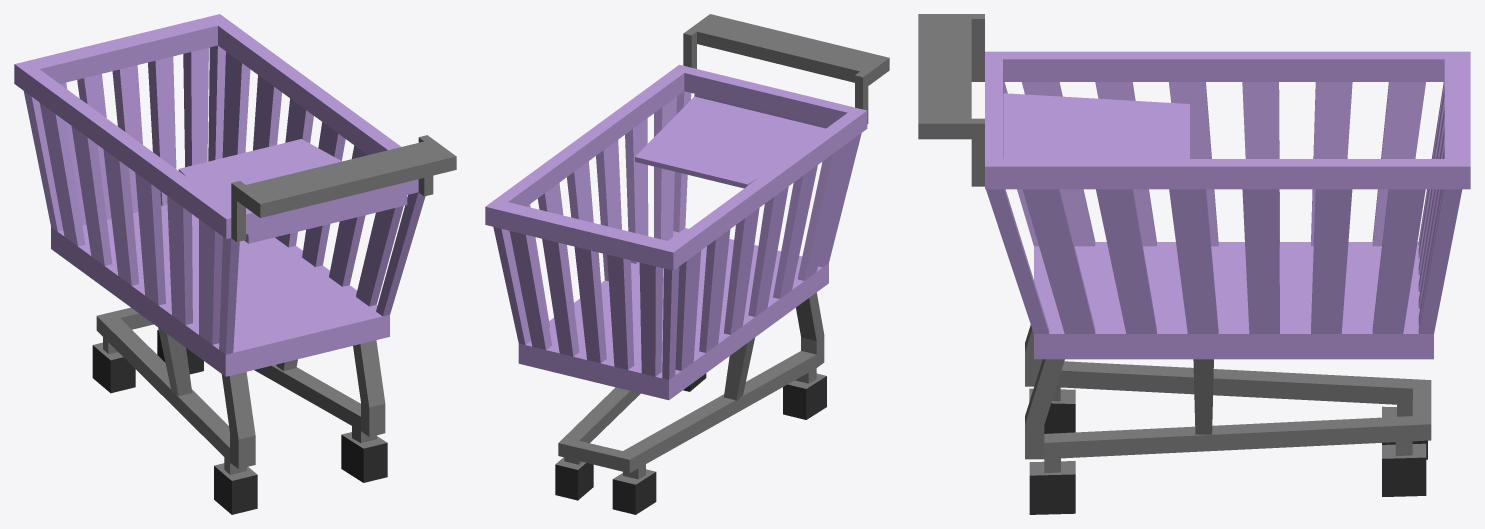
The model's file is S.ShoppingCart.fbx.
3 views of the same model, side by side, from view 1: azimuth 30°, elevation 25°; view 2: azimuth 150°, elevation 25°; view 3: azimuth 270°, elevation 25° (orthographic). The views are drawn at different scales.
Parts seen in each view (by area): view 1: Cube.006; view 2: Cube.006; view 3: Cube.006.
Part boxes in pixels (x1,y1,x2,y2): Cube.006: (14,14,456,514); Cube.006: (485,14,889,514); Cube.006: (918,14,1470,514).
Size of the model in its own units: 156 by 255 by 317.
